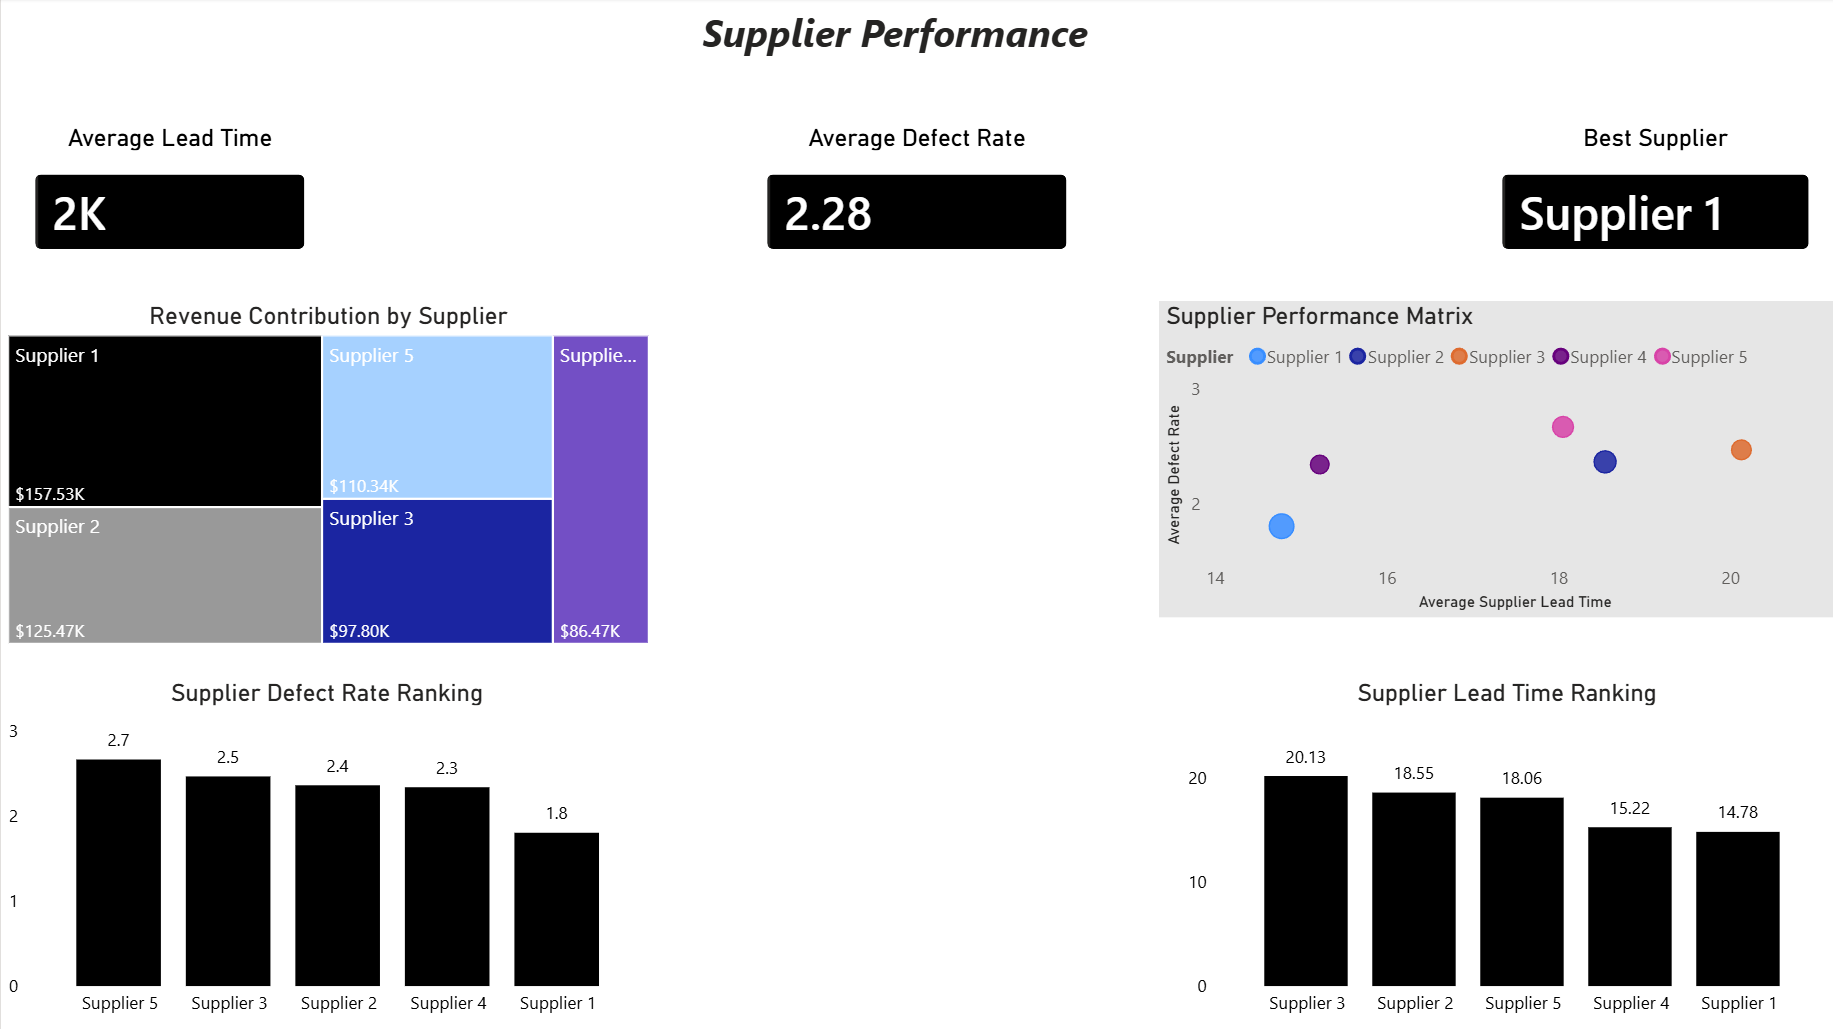

The dashboard page shown, as its layout file describes it:
{"tool":"powerbi","page":{"name":"Supplier Performance","canvas":[1280,720],"ordinal":1},"visuals":[{"type":"treemap","title":"Revenue Contribution by Supplier","fields":{"Group":["supplychain_db supply.Supplier_Name"],"Values":["Sum(supplychain_db supply.Revenue)"]},"box":[0,211.7,457.6,244.5],"z":0},{"type":"cardVisual","title":"Average Lead Time ","fields":{"Data":["Sum(supplychain_db supply.Supplier_Lead_time)"]},"box":[7,87.3,222.2,105.5],"z":1},{"type":"cardVisual","title":"Average Defect Rate","fields":{"Data":["Avg(supplychain_db supply.Defect_dates)"]},"box":[518.4,87.3,243.1,105.5],"z":2},{"type":"cardVisual","title":"Best Supplier","fields":{"Data":["supplychain_db supply.Best Supplier"]},"box":[1032,87.3,248,105.5],"z":3},{"type":"columnChart","title":"Supplier Lead Time Ranking","fields":{"Y":["Avg(supplychain_db supply.Supplier_Lead_time)"],"Category":["supplychain_db supply.Supplier_Name"]},"box":[824.5,475.1,455.5,245.2],"z":5},{"type":"columnChart","title":"Supplier Defect Rate Ranking","fields":{"Category":["supplychain_db supply.Supplier_Name"],"Y":["Avg(supplychain_db supply.Defect_dates)"]},"box":[0,475.1,455.5,245.2],"z":6},{"type":"scatterChart","title":"Supplier Performance Matrix","fields":{"X":["Avg(supplychain_db supply.Supplier_Lead_time)"],"Y":["Avg(supplychain_db supply.Defect_dates)"],"Size":["Sum(supplychain_db supply.Revenue)"],"Series":["supplychain_db supply.Supplier_Name"]},"box":[809.1,211.7,470.9,220.8],"z":7},{"type":"textbox","box":[484.9,0,310.2,67.1],"z":8}]}

Visuals, with their boxes in screenshot pixels (x1, y1, x2, y2), scaled from the page's 1280x720 canvas onto the 1833x1029 screenshot:
"Revenue Contribution by Supplier" treemap: pyautogui.locateOnScreen(0, 303, 655, 652)
"Average Lead Time " cardVisual: pyautogui.locateOnScreen(10, 125, 328, 276)
"Average Defect Rate" cardVisual: pyautogui.locateOnScreen(742, 125, 1090, 276)
"Best Supplier" cardVisual: pyautogui.locateOnScreen(1478, 125, 1832, 276)
"Supplier Lead Time Ranking" columnChart: pyautogui.locateOnScreen(1181, 679, 1832, 1028)
"Supplier Defect Rate Ranking" columnChart: pyautogui.locateOnScreen(0, 679, 652, 1028)
"Supplier Performance Matrix" scatterChart: pyautogui.locateOnScreen(1159, 303, 1832, 618)
textbox: pyautogui.locateOnScreen(694, 0, 1139, 96)
